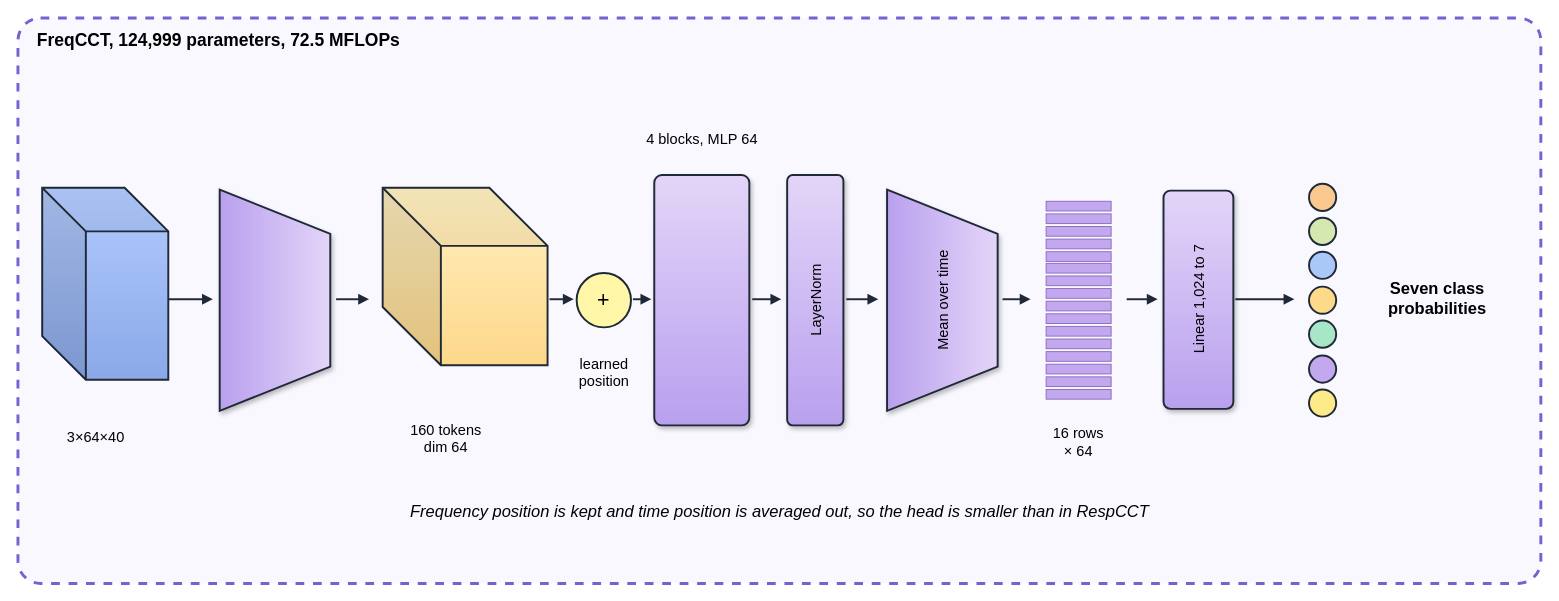
Some shapes in this 1559 by 601 pixel diagram are drawn without their labels. Each missing label, with the centre of its shape:
"Conv tokenizer (2nd conv depthwise)" belongs at [275,301].
"Transformer" belongs at [702,301].
